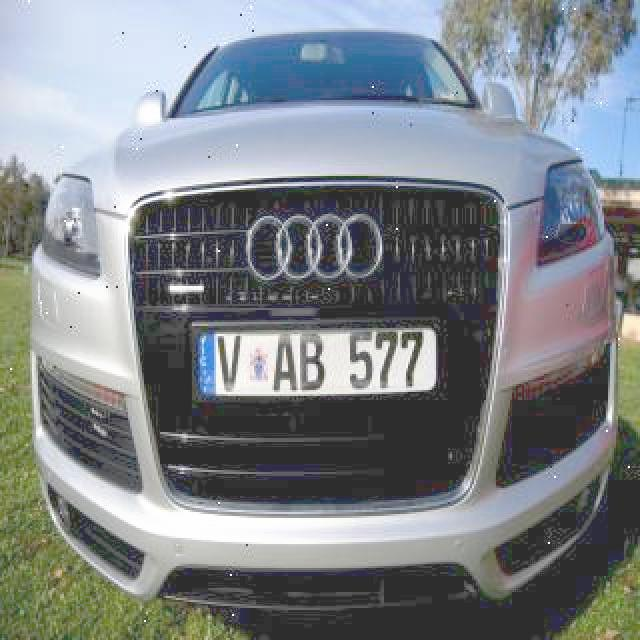license_plate: (188, 323, 447, 400)
